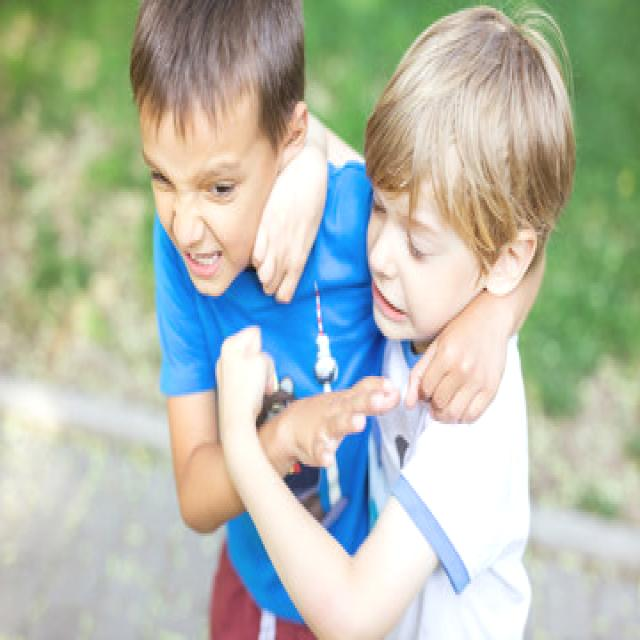fight: (126, 1, 585, 538)
